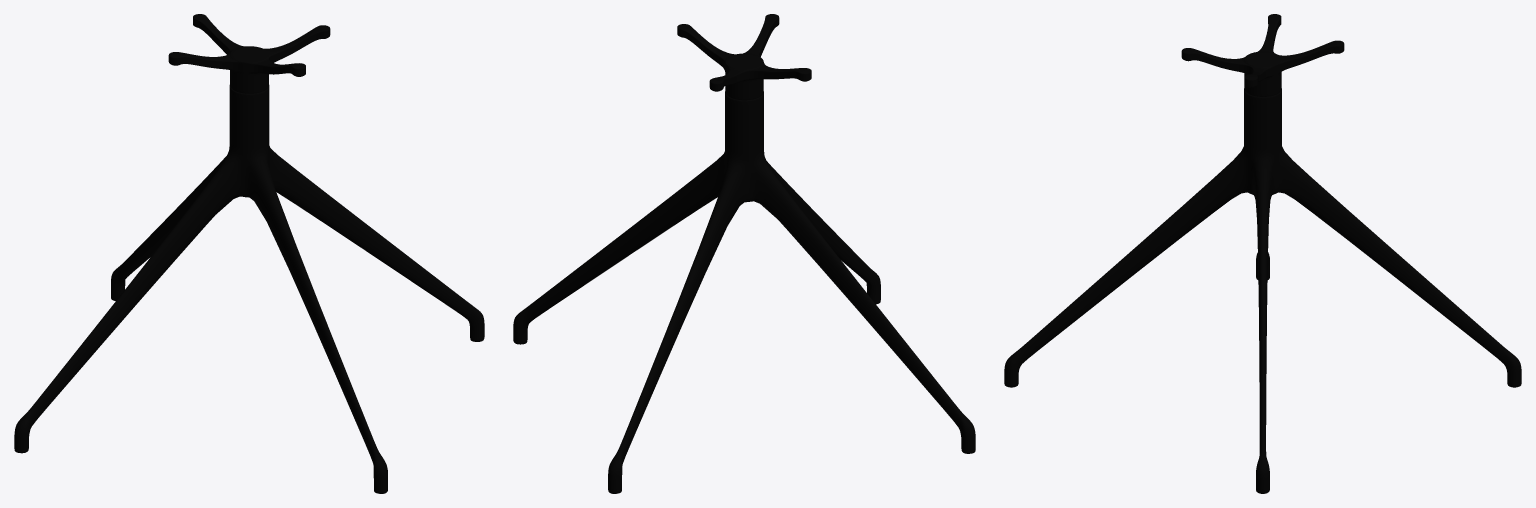
Rendered from tablechair_0103_leg.glb.
3 renders of one model, left to right at view 1: azimuth 30°, elevation 25°; view 2: azimuth 150°, elevation 25°; view 3: azimuth 270°, elevation 25°, orthographic. The views are drawn at different scales.
Parts seen in each view (by area): view 1: tablechair_0103_leg; view 2: tablechair_0103_leg; view 3: tablechair_0103_leg.
Boxes of the visible parts, <box> form: tablechair_0103_leg: <box>14,14,484,493</box>; tablechair_0103_leg: <box>513,14,975,493</box>; tablechair_0103_leg: <box>1004,14,1521,493</box>.
Size of the model in its own units: 0.5605 by 0.4059 by 0.5605.
1 material, 1 textured.
